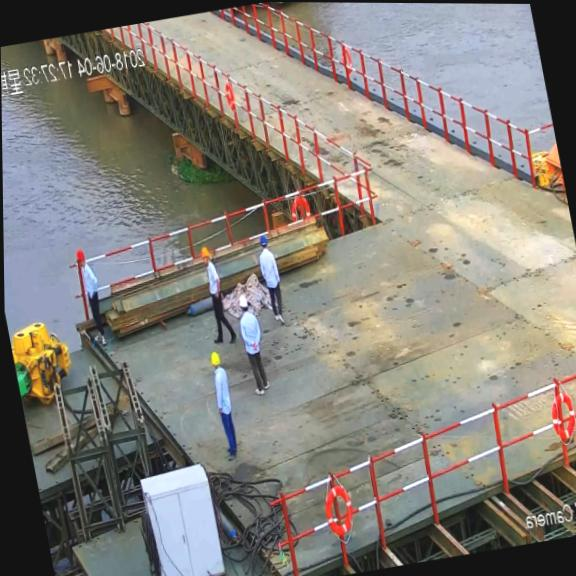no_safety_vest: (235, 308, 266, 365), (207, 366, 237, 424), (255, 243, 282, 304), (201, 261, 226, 311)
